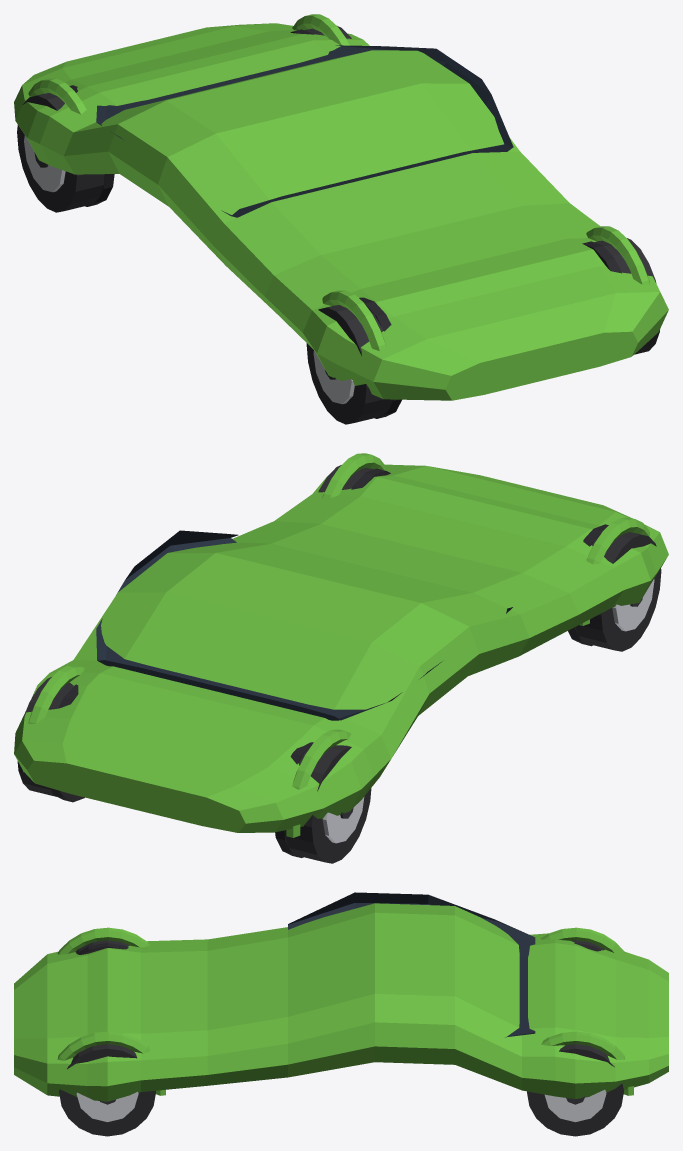
File: suv.glb
3 views of the same model, one above another, from view 1: azimuth 30°, elevation 25°; view 2: azimuth 150°, elevation 25°; view 3: azimuth 270°, elevation 25° (orthographic). The views are drawn at different scales.
Parts seen in each view (by area): view 1: body, glass_canopy, wheel_front_tyre.001, wheel_rear_tyre.001, body_arch.001, body_arch, wheel_rear_rim.001, body_arch.003, wheel_front_rim.001, body_arch.002, wheel_front_tyre; view 2: body, glass_canopy, wheel_rear_tyre.001, wheel_front_tyre.001, body_arch.003, body_arch.001, body_arch.002, body_arch, wheel_rear_tyre, wheel_rear_rim.001, wheel_front_rim.001; view 3: body, glass_canopy, wheel_front_tyre, wheel_rear_tyre, body_arch, body_arch.001, wheel_rear_rim, body_arch.002, wheel_front_rim, body_arch.003.
Boxes of the visible parts, x1=… form: body: x1=14, y1=23, x2=668, y2=400; glass_canopy: x1=96, y1=45, x2=513, y2=217; wheel_front_tyre.001: x1=306, y1=305, x2=392, y2=424; wheel_rear_tyre.001: x1=17, y1=93, x2=104, y2=212; body_arch.001: x1=322, y1=290, x2=386, y2=351; body_arch: x1=586, y1=226, x2=649, y2=285; wheel_rear_rim.001: x1=24, y1=135, x2=65, y2=192; body_arch.003: x1=28, y1=78, x2=86, y2=114; wheel_front_rim.001: x1=313, y1=350, x2=354, y2=404; body_arch.002: x1=292, y1=14, x2=349, y2=45; wheel_front_tyre: x1=588, y1=238, x2=659, y2=354; body: x1=14, y1=464, x2=668, y2=832; glass_canopy: x1=96, y1=530, x2=512, y2=720; wheel_rear_tyre.001: x1=284, y1=745, x2=371, y2=863; wheel_front_tyre.001: x1=575, y1=532, x2=661, y2=651; body_arch.003: x1=286, y1=729, x2=350, y2=837; body_arch.001: x1=579, y1=517, x2=649, y2=625; body_arch.002: x1=23, y1=665, x2=85, y2=772; body_arch: x1=322, y1=453, x2=385, y2=498; wheel_rear_tyre: x1=17, y1=677, x2=83, y2=800; wheel_rear_rim.001: x1=322, y1=797, x2=364, y2=843; wheel_front_rim.001: x1=612, y1=579, x2=654, y2=631; body: x1=14, y1=903, x2=668, y2=1101; glass_canopy: x1=288, y1=892, x2=535, y2=1037; wheel_front_tyre: x1=59, y1=1044, x2=155, y2=1136; wheel_rear_tyre: x1=527, y1=1044, x2=623, y2=1136; body_arch: x1=57, y1=1031, x2=165, y2=1095; body_arch.001: x1=57, y1=927, x2=149, y2=954; wheel_rear_rim: x1=544, y1=1089, x2=606, y2=1122; body_arch.002: x1=541, y1=1031, x2=633, y2=1095; wheel_front_rim: x1=76, y1=1091, x2=138, y2=1122; body_arch.003: x1=540, y1=927, x2=624, y2=954.
Bounding box in the file's own units: 2.12 × 1.01 × 4.46.
